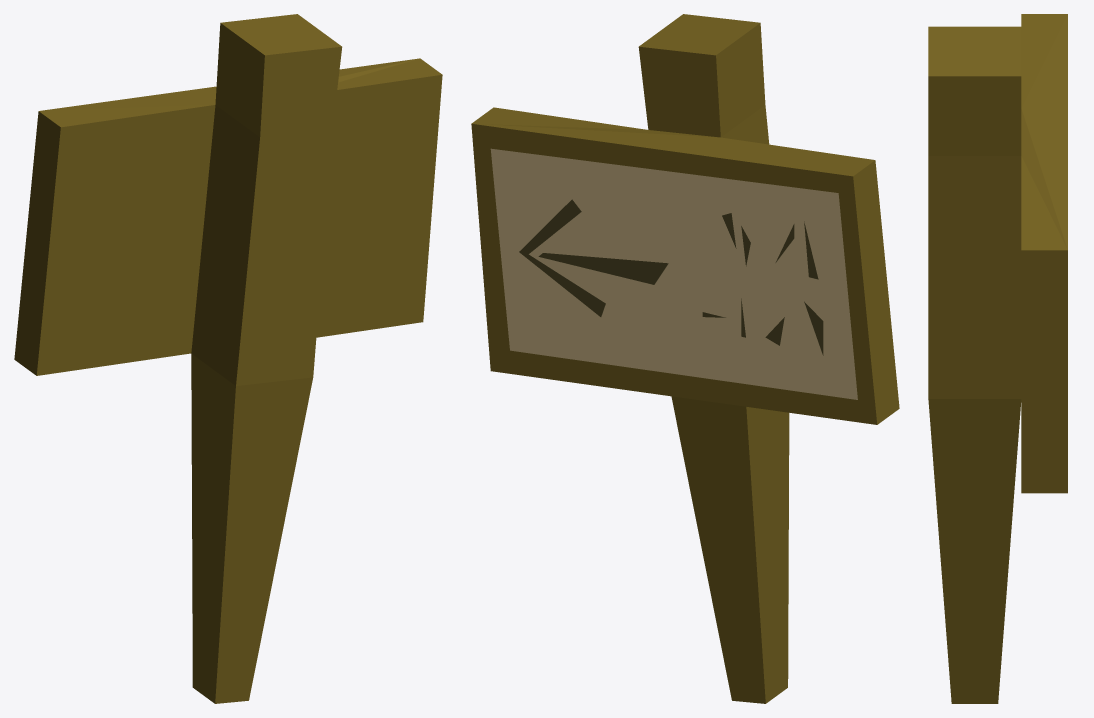
The model's file is obj_signpost_6_0.obj.
3 views of the same model, side by side, from view 1: azimuth 30°, elevation 25°; view 2: azimuth 150°, elevation 25°; view 3: azimuth 270°, elevation 25° (orthographic). The views are drawn at different scales.
Size of the model in its own units: 0.6562 by 1.01 by 0.2031.
